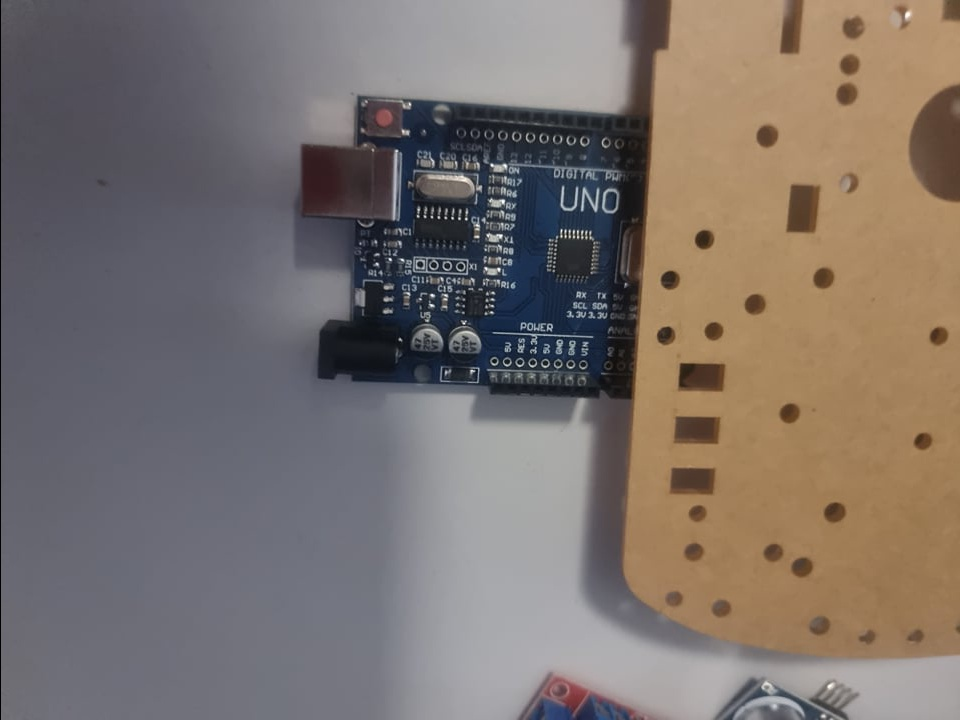UNO R3: (298, 83, 643, 408)
